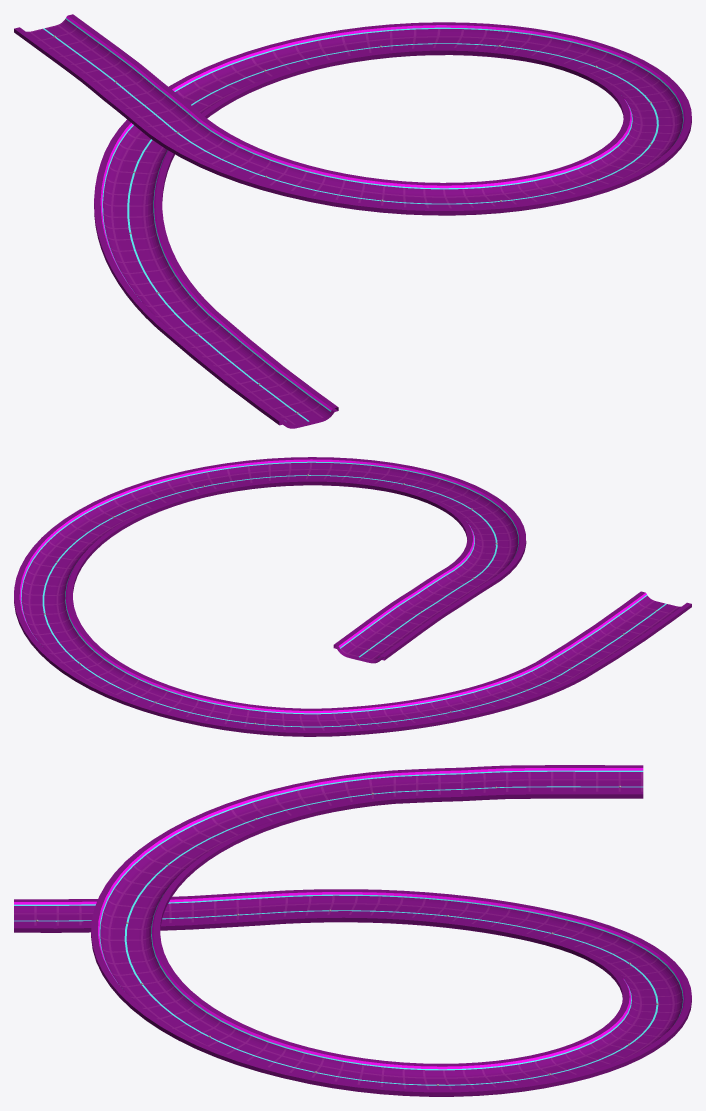
File: block_180_S_L_T2.fbx
3 views of the same model, one above another, from view 1: azimuth 30°, elevation 25°; view 2: azimuth 150°, elevation 25°; view 3: azimuth 270°, elevation 25° (orthographic). The views are drawn at different scales.
Parts seen in each view (by area): view 1: block_180_S_L_T2; view 2: block_180_S_L_T2; view 3: block_180_S_L_T2.
Boxes of the visible parts, x1,y1,x2,y2 form: block_180_S_L_T2: (14, 14, 691, 428); block_180_S_L_T2: (14, 457, 691, 736); block_180_S_L_T2: (14, 765, 691, 1096).
Size of the model in its own units: 10689 by 3023 by 11084.
Materials: 2 (1 with a texture image).
